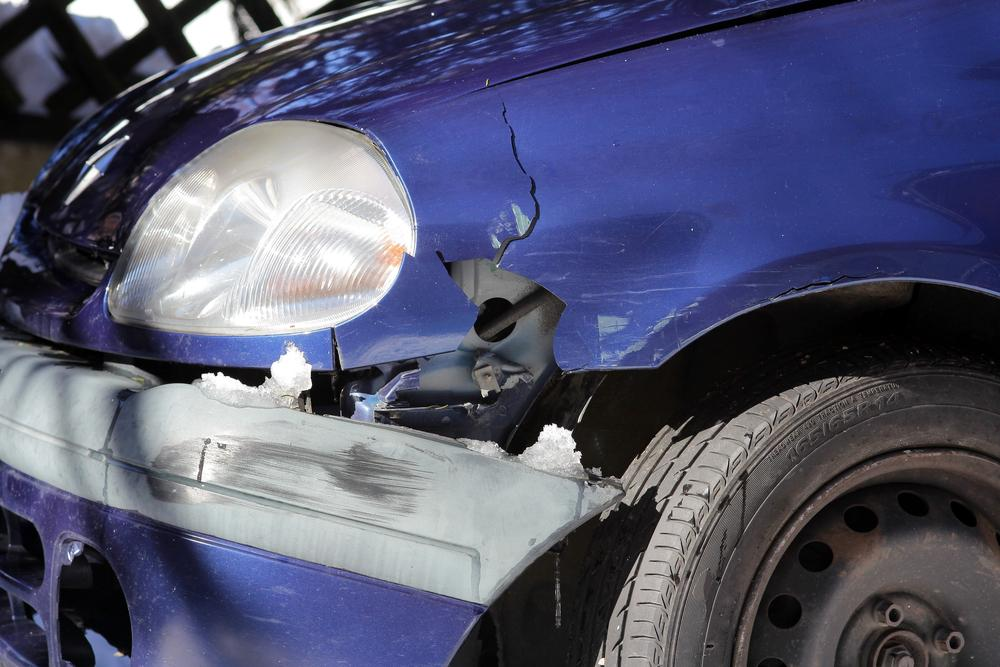crack: (490, 87, 546, 268), (754, 270, 887, 303)
dent: (557, 213, 710, 372)
scratch: (146, 434, 441, 525)
